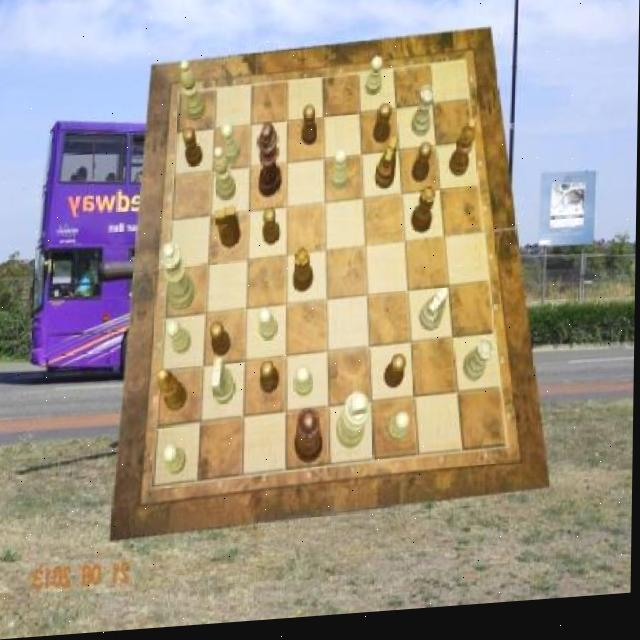bishop: (449, 124, 477, 184), (158, 370, 188, 414)
black-bishop: (258, 125, 283, 201)
black-king: (374, 143, 398, 197), (214, 209, 240, 252)
black-knight: (182, 131, 203, 171), (412, 148, 432, 188), (372, 111, 392, 150), (301, 109, 319, 152), (385, 361, 407, 396), (260, 363, 280, 399), (210, 325, 230, 361), (264, 210, 282, 248)
black-pawn: (294, 412, 324, 470)
black-queen: (411, 192, 436, 241), (293, 251, 314, 297)
black-rook: (179, 62, 207, 125), (212, 149, 237, 205)
white-bishop: (336, 397, 371, 456)
white-king: (419, 294, 448, 339), (212, 360, 237, 407)
white-knight: (166, 321, 191, 359), (221, 126, 241, 167), (164, 446, 187, 479), (259, 311, 279, 346), (332, 154, 349, 195), (365, 62, 382, 102), (387, 419, 410, 448), (295, 369, 315, 401)
white-pawn: (158, 244, 196, 313)
white-queen: (463, 345, 494, 389), (411, 92, 434, 144)
